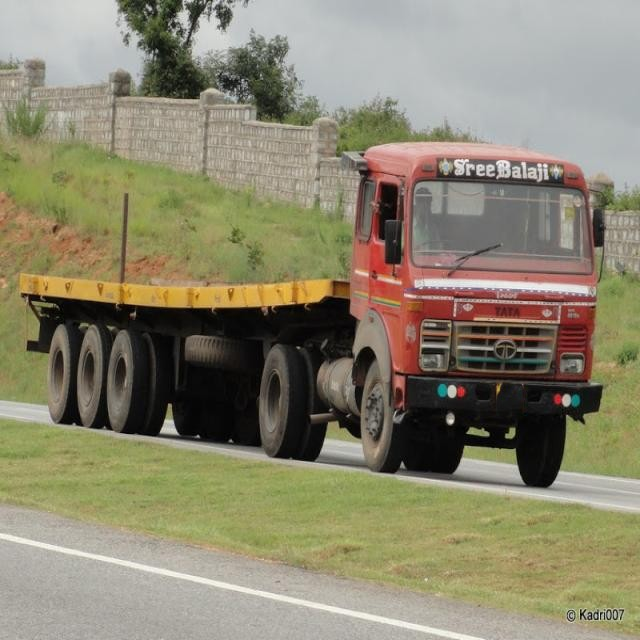truck: (27, 142, 596, 482)
